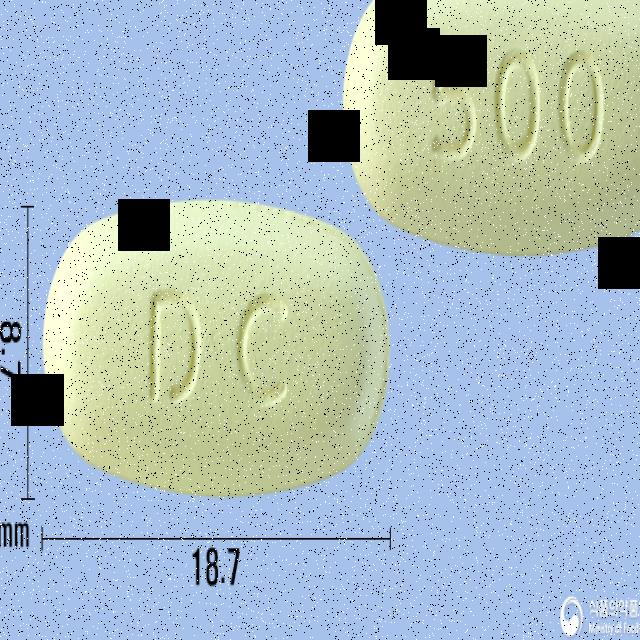Clavix: (42, 190, 396, 508), (339, 0, 640, 261)
